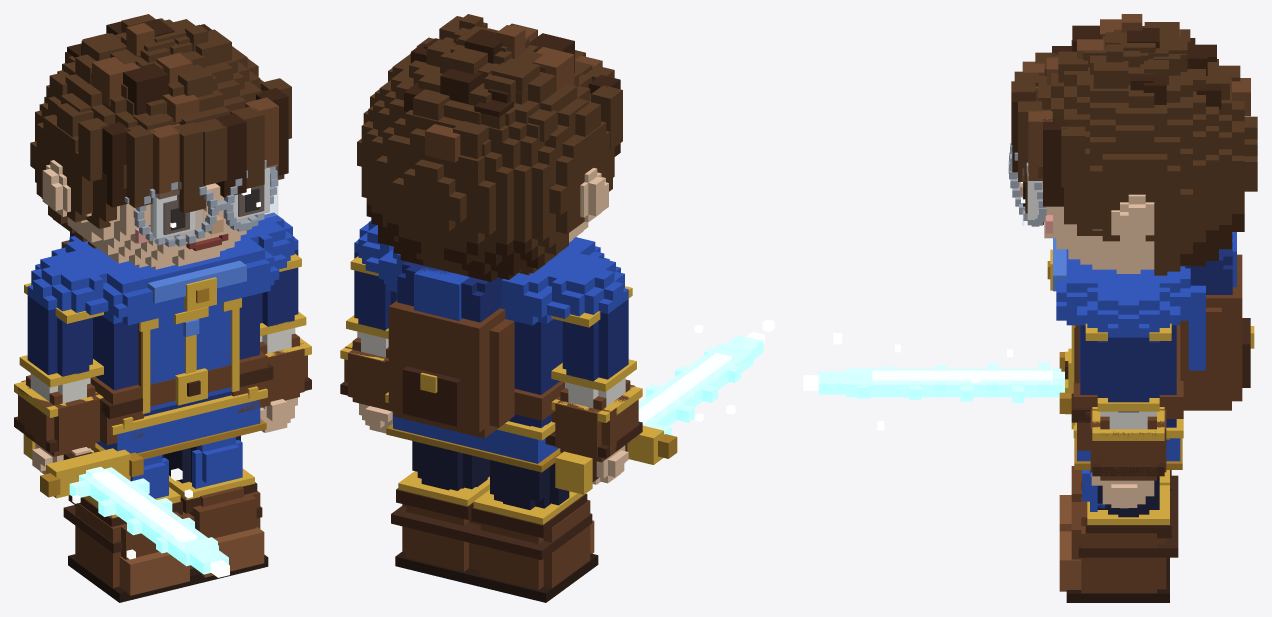
Rendered from player-chibi.glb.
3 renders of one model, left to right at view 1: azimuth 30°, elevation 25°; view 2: azimuth 150°, elevation 25°; view 3: azimuth 270°, elevation 25°, orthographic.
Visible parts, largest first — view 1: hair_cap, scarf, head_ball, torso, torso_front, pauldron_r, right_bracer, right_arm, torso_hem, right_boot, sword_blade, left_boot (+69 smaller); view 2: hair_cap, backpack, right_boot, pauldron_r, right_arm, scarf, right_bracer, hair_back_low, torso, left_boot, left_leg, right_leg (+42 smaller); view 3: hair_cap, backpack, left_boot, pauldron_l, sword_blade, left_arm, scarf, head_ball, left_bracer, torso, sword_core, ear_l (+24 smaller).
Boxes of the visible parts, x1,y1,x2,y2 form: hair_cap: [30, 32, 284, 248]; scarf: [51, 234, 279, 325]; head_ball: [67, 183, 253, 269]; torso: [93, 293, 259, 416]; torso_front: [150, 302, 230, 410]; pauldron_r: [27, 249, 108, 315]; right_bracer: [18, 375, 99, 456]; right_arm: [27, 296, 92, 376]; torso_hem: [96, 399, 260, 453]; right_boot: [75, 503, 184, 587]; sword_blade: [79, 467, 218, 566]; left_boot: [181, 486, 260, 569]; hair_cap: [357, 28, 614, 276]; backpack: [388, 300, 514, 438]; right_boot: [477, 500, 590, 589]; pauldron_r: [547, 251, 628, 318]; right_arm: [562, 299, 628, 381]; scarf: [378, 237, 609, 325]; right_bracer: [552, 379, 638, 462]; hair_back_low: [366, 204, 544, 281]; torso: [393, 291, 562, 427]; left_boot: [402, 504, 477, 571]; left_leg: [412, 441, 489, 490]; right_leg: [490, 460, 569, 509]; hair_cap: [1038, 35, 1257, 275]; backpack: [1180, 254, 1242, 410]; left_boot: [1071, 497, 1166, 593]; pauldron_l: [1077, 283, 1180, 337]; sword_blade: [846, 368, 1061, 397]; left_arm: [1097, 337, 1159, 412]; scarf: [1056, 249, 1190, 325]; head_ball: [1042, 181, 1154, 273]; left_bracer: [1090, 409, 1166, 480]; torso: [1080, 325, 1176, 427]; sword_core: [872, 370, 1052, 380]; ear_l: [1111, 194, 1154, 243].
Size of the model in its own units: 1.88 by 3.45 by 2.64.
